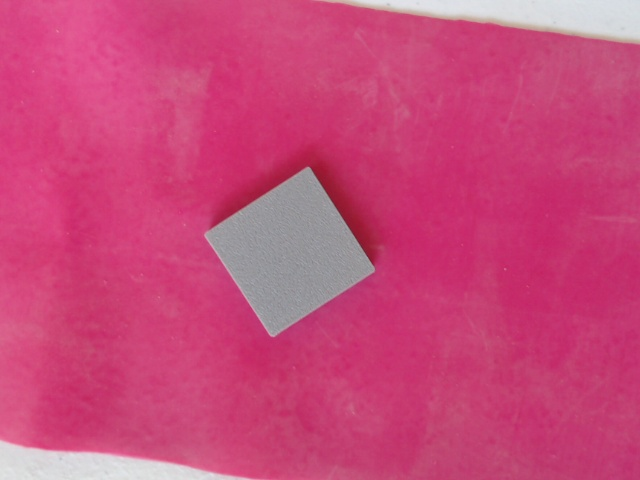Defective: (200, 165, 387, 343)
